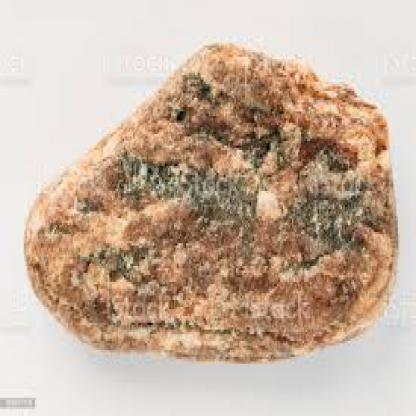Metamorphic_Quartize: (23, 34, 399, 368)
